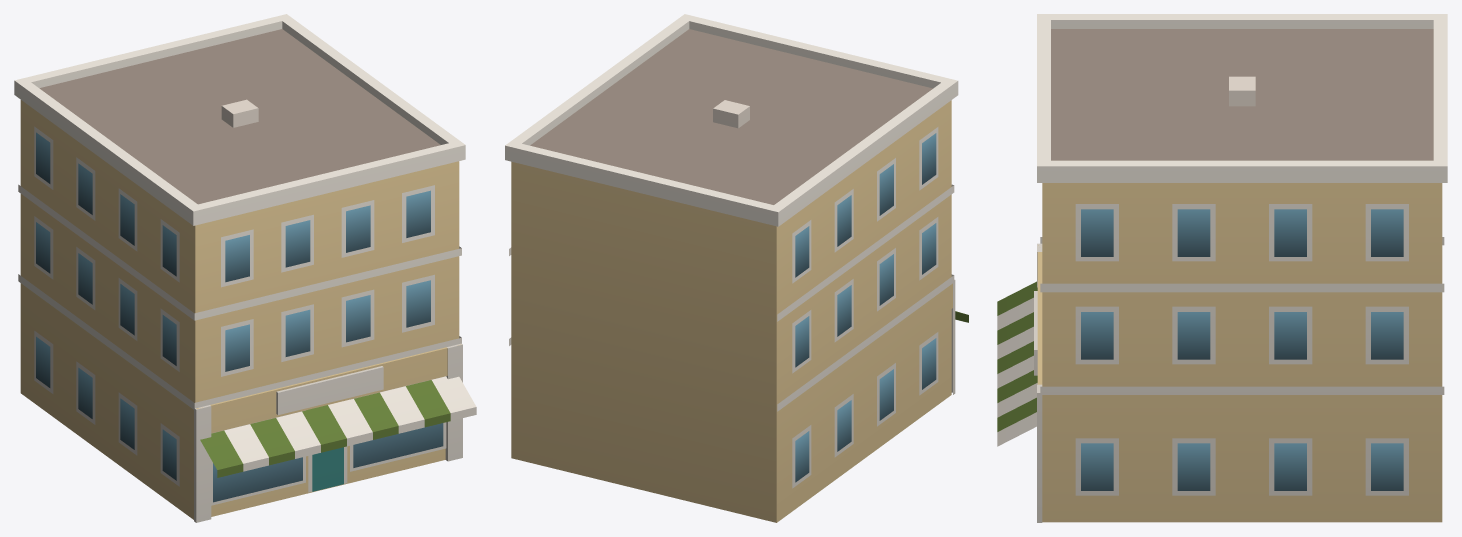
The model's file is beacon_w0_far.glb.
The picture shows the model from 3 angles, left to right: view 1: azimuth 30°, elevation 25°; view 2: azimuth 150°, elevation 25°; view 3: azimuth 270°, elevation 25°; orthographic projection. The views are drawn at different scales.
Visible parts, largest first — view 1: beacon_w0_far; view 2: beacon_w0_far; view 3: beacon_w0_far.
Part boxes in pixels (<box>): beacon_w0_far: <box>14,14,476,522</box>; beacon_w0_far: <box>505,14,968,522</box>; beacon_w0_far: <box>997,14,1447,522</box>.
Size of the model in its own units: 10.82 by 12.07 by 13.51.
Materials: 1 (1 with a texture image).
